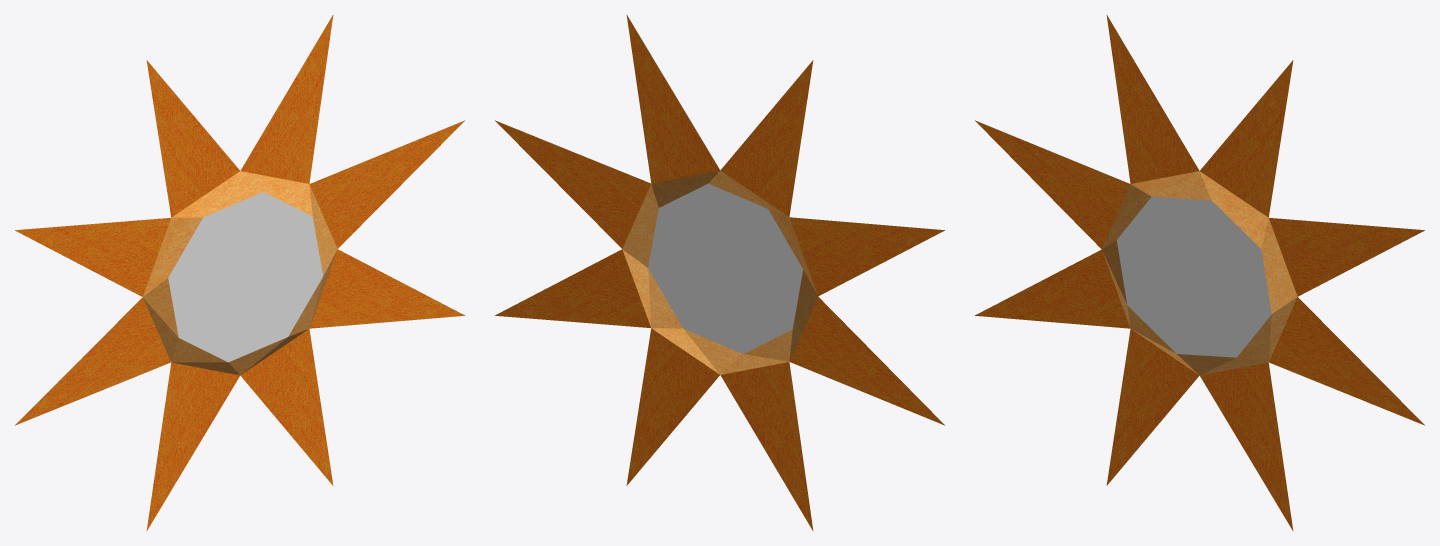
File: clock_decimated.fbx
3 views of the same model, side by side, from view 1: azimuth 30°, elevation 25°; view 2: azimuth 150°, elevation 25°; view 3: azimuth 330°, elevation 25° (orthographic).
Visible parts, largest first — view 1: Circle.004; view 2: Circle.004; view 3: Circle.004.
Part boxes in pixels (x1,y1,x2,y2): Circle.004: (15, 15, 464, 530); Circle.004: (495, 15, 944, 530); Circle.004: (975, 15, 1424, 530).
Bounding box in the file's own units: 462 × 462 × 10.22.
